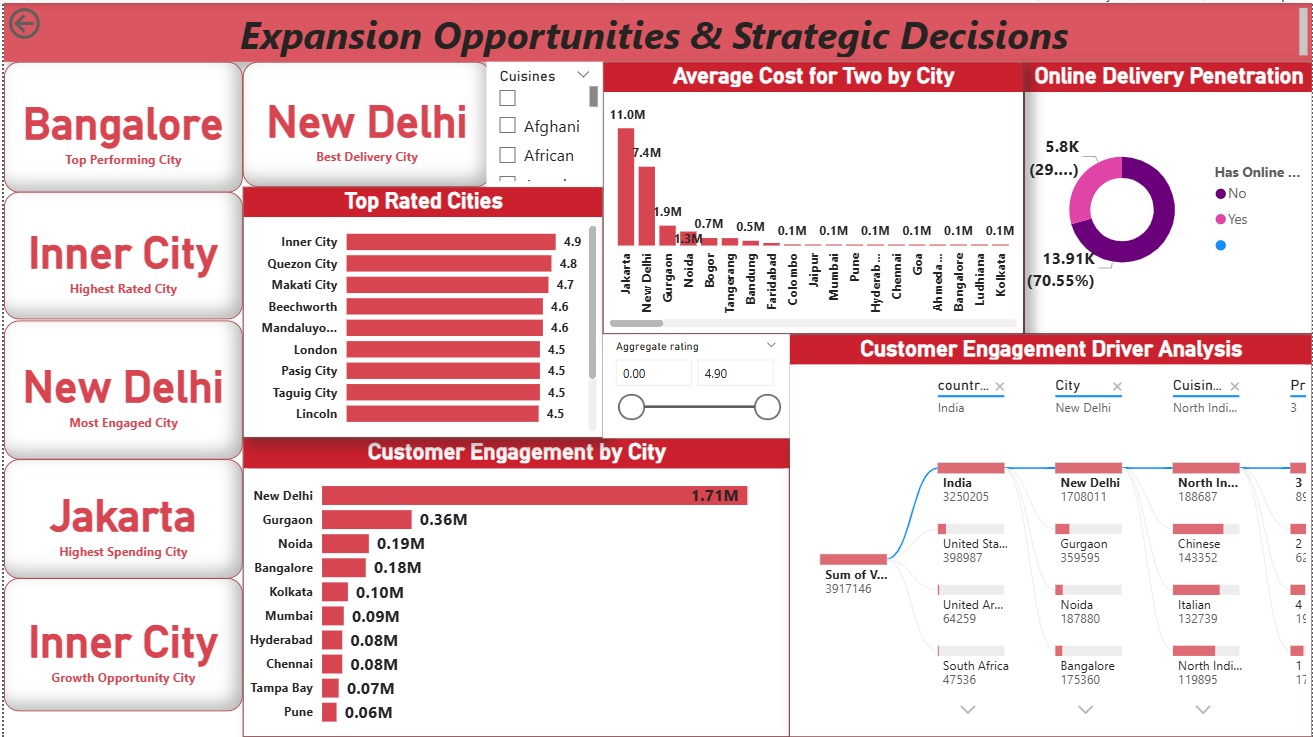

Layout of this report page (visuals, bound fields, positions):
{"tool":"powerbi","page":{"name":"Business Growth & Expansion Insights","canvas":[1280,720],"ordinal":3},"visuals":[{"type":"textbox","box":[0,0,1280.3,57.6],"z":0},{"type":"card","fields":{"Values":["Table.Top Performing City"]},"box":[0,57.6,233.3,127.6],"z":1000},{"type":"card","fields":{"Values":["Table.Highest Rated City"]},"box":[0,185.2,233.3,124.9],"z":2000},{"type":"card","fields":{"Values":["Table.Most Engaged City"]},"box":[0,310.1,233.3,135.8],"z":3000},{"type":"card","fields":{"Values":["Table.Best Delivery City"]},"box":[233.3,57.6,242.9,122.1],"z":4000},{"type":"card","fields":{"Values":["Table.Highest Spending City"]},"box":[0,446,233.3,116.6],"z":5000},{"type":"card","fields":{"Values":["Table.Growth Opportunity City"]},"box":[0,562.6,233.3,130.4],"z":6000},{"type":"barChart","title":"Customer Engagement by City","fields":{"Category":["Dataset.City"],"Y":["Sum(Dataset.Votes)"]},"box":[233.3,425.4,535.2,293.7],"z":7000},{"type":"actionButton","box":[0,0,100,40],"z":8000},{"type":"clusteredBarChart","title":"Top Rated Cities","fields":{"Category":["Dataset.City"],"Y":["Dataset.Average Rating"]},"box":[233.3,179.8,352.7,245.6],"z":9000},{"type":"donutChart","title":"Online Delivery Penetration","fields":{"Category":["Dataset.Has Online delivery"],"Y":["CountNonNull(Dataset.Restaurant ID)"]},"box":[997.6,57.6,282.7,266.2],"z":10000},{"type":"clusteredColumnChart","title":"Average Cost for Two by City","fields":{"Category":["Dataset.City"],"Y":["Sum(Dataset.Average Cost for two)"]},"box":[585.9,57.6,411.7,266.2],"z":11000},{"type":"decompositionTreeVisual","title":"Customer Engagement Driver Analysis","fields":{"Analyze":["Sum(Dataset.Votes)"],"ExplainBy":["Sheet2.country name","Sheet1.City","Dataset.Cuisines","Dataset.Price range","Dataset.Has Online delivery"]},"box":[768.4,323.8,511.8,395.2],"z":12000},{"type":"slicer","fields":{"Values":["Dataset.Cuisines"]},"box":[472,57.6,113.9,122.1],"z":13000},{"type":"slicer","fields":{"Values":["Dataset.Aggregate rating"]},"box":[585.9,323.8,182.5,101.5],"z":14000}]}

Visuals, with their boxes in screenshot pixels (x1, y1, x2, y2), scaled from the page's 1280x720 canvas onto the 1313x737 screenshot:
textbox: 0/0/1312/59
card - Table.Top Performing City: 0/59/239/190
card - Table.Highest Rated City: 0/190/239/317
card - Table.Most Engaged City: 0/317/239/456
card - Table.Best Delivery City: 239/59/488/184
card - Table.Highest Spending City: 0/457/239/576
card - Table.Growth Opportunity City: 0/576/239/709
"Customer Engagement by City" barChart: 239/435/788/736
actionButton: 0/0/103/41
"Top Rated Cities" clusteredBarChart: 239/184/601/435
"Online Delivery Penetration" donutChart: 1023/59/1312/331
"Average Cost for Two by City" clusteredColumnChart: 601/59/1023/331
"Customer Engagement Driver Analysis" decompositionTreeVisual: 788/331/1312/736
slicer - Dataset.Cuisines: 484/59/601/184
slicer - Dataset.Aggregate rating: 601/331/788/435
